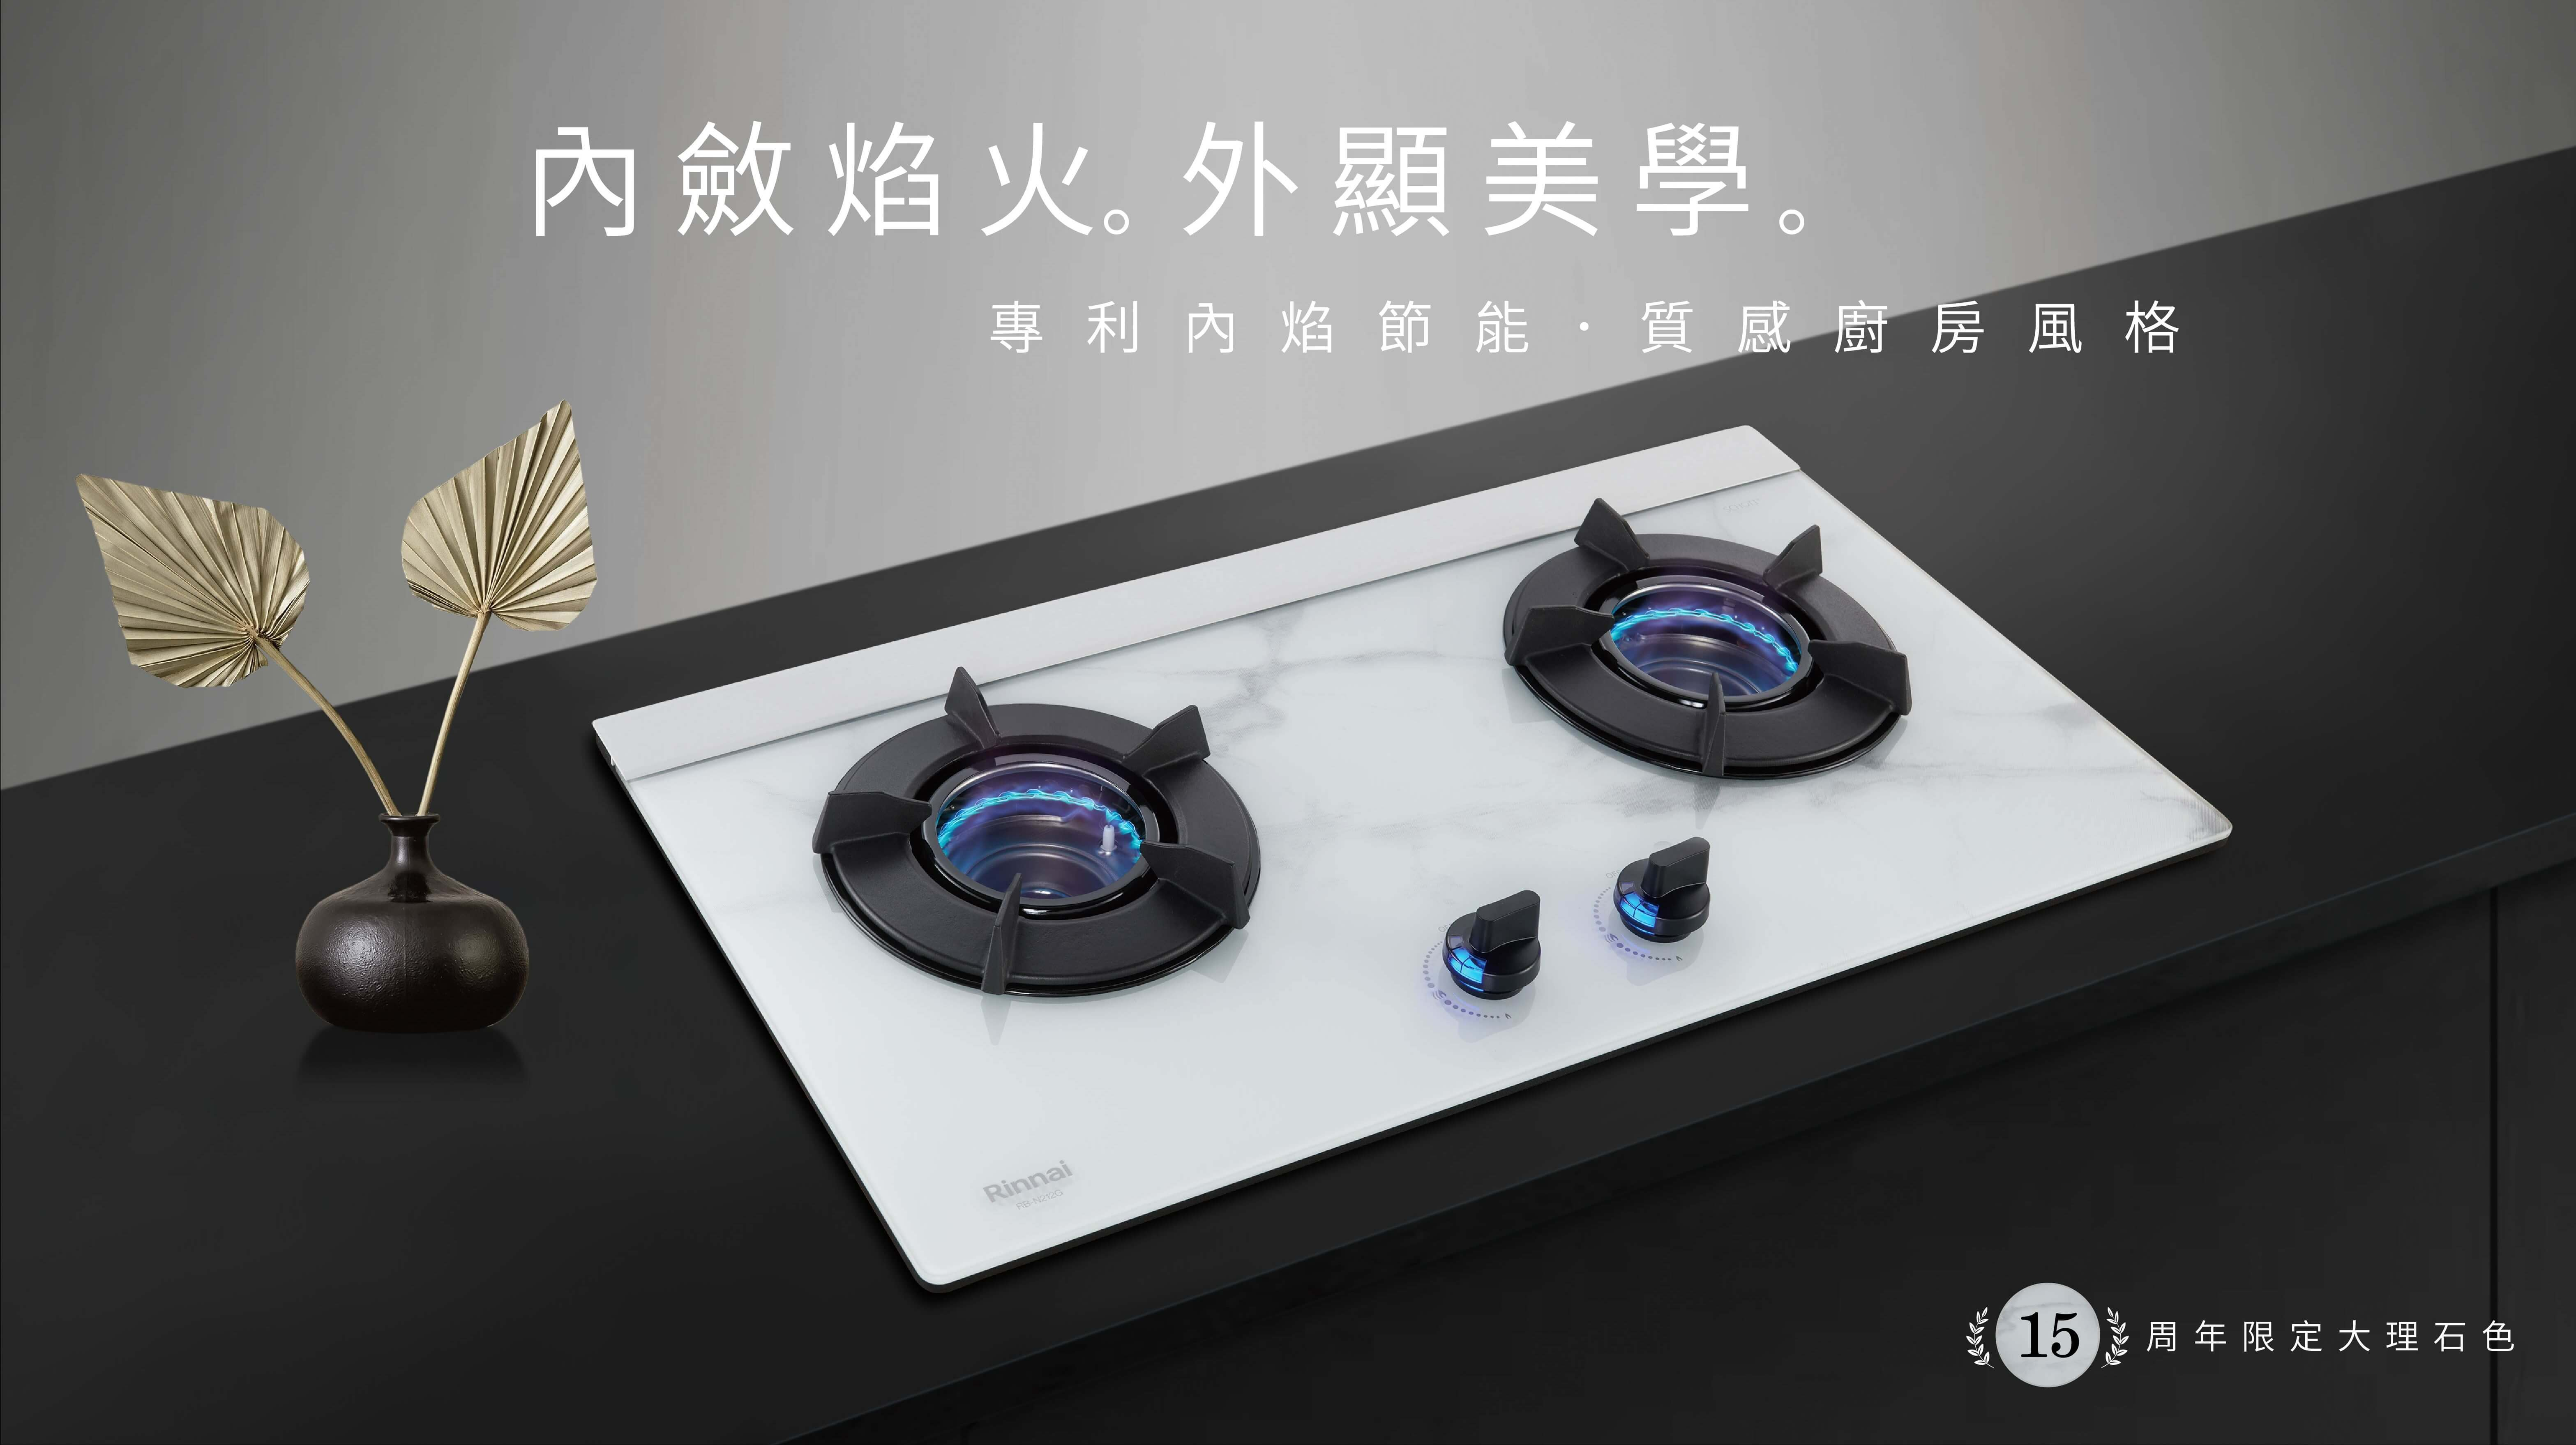gasoven: (575, 391, 2243, 1291)
